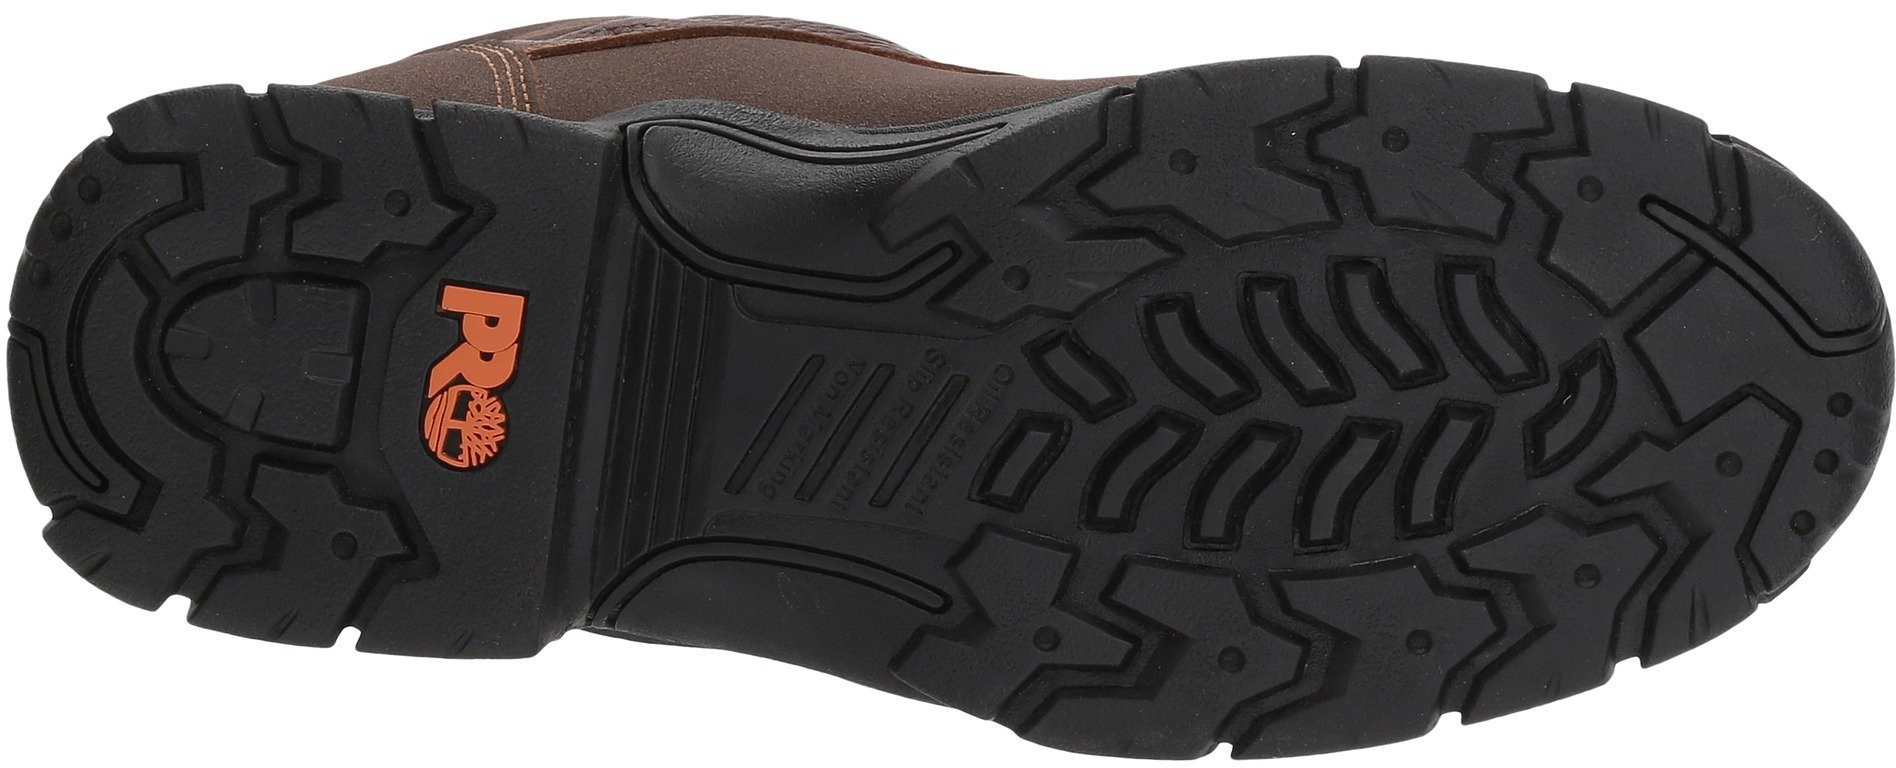chevron: (1018, 552, 1252, 746), (1301, 65, 1524, 262), (258, 92, 458, 276)
circle: (371, 282, 556, 470), (1362, 105, 1430, 183), (1197, 625, 1266, 699), (1149, 135, 1218, 203), (1698, 434, 1768, 495), (371, 171, 424, 248), (316, 521, 372, 578), (1573, 158, 1632, 213)
line: (728, 322, 971, 543)
quad: (1238, 236, 1567, 556), (982, 275, 1293, 558), (148, 252, 380, 470)
text: (728, 322, 971, 543), (371, 282, 556, 470), (406, 272, 550, 400)
